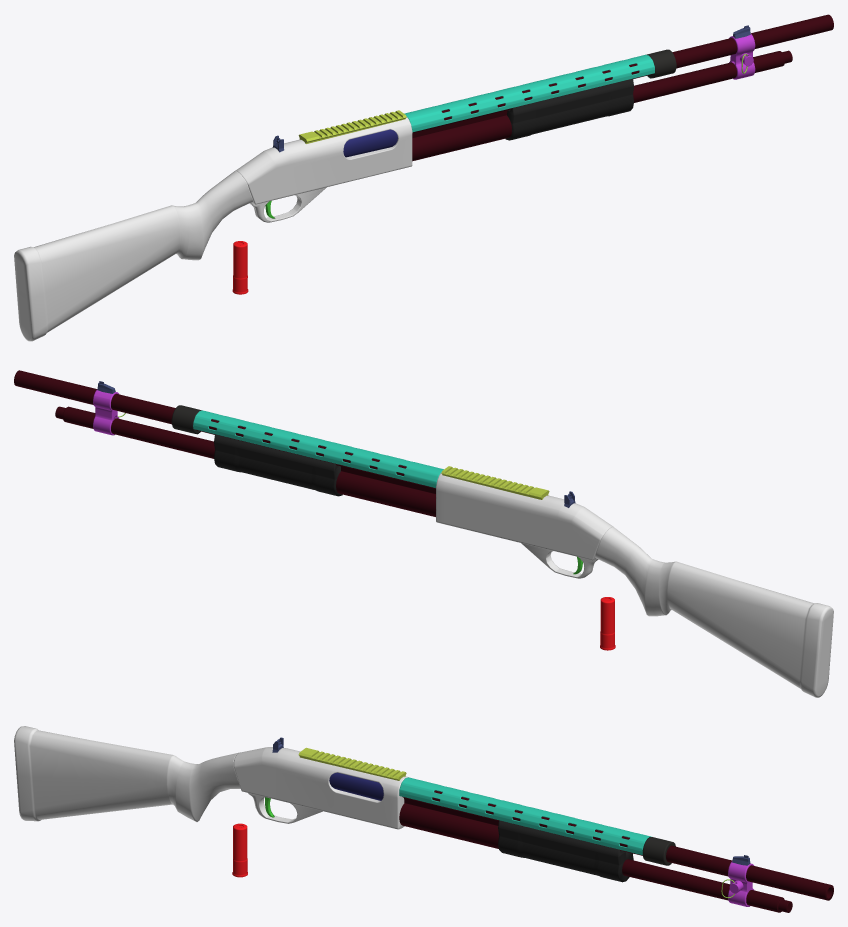
The model's file is uploads_files_903770_Rem870.fbx.
3 renders of one model, top to bottom at view 1: azimuth 30°, elevation 25°; view 2: azimuth 150°, elevation 25°; view 3: azimuth 330°, elevation 25°, orthographic.
Visible parts, largest first — view 1: 870mcs.053, 870mcs.052, 870mcs.050, 870mcs.044, Cylinder.015, 870mcs.045, 870mcs_bolt.011, 870mcs.047, 870mcs_12 gauge round.000; view 2: 870mcs.053, 870mcs.050, 870mcs.052, 870mcs.044, Cylinder.015, 870mcs.045, 870mcs.047, 870mcs_12 gauge round.000; view 3: 870mcs.053, 870mcs.052, 870mcs.050, 870mcs.044, Cylinder.015, 870mcs.045, 870mcs_bolt.011, 870mcs.047, 870mcs_12 gauge round.000, 870mcs.051.
Part boxes in pixels (<box>): 870mcs.053: <box>14,171,252,341</box>; 870mcs.052: <box>412,14,833,161</box>; 870mcs.050: <box>235,117,412,222</box>; 870mcs.044: <box>404,54,654,132</box>; Cylinder.015: <box>505,79,633,140</box>; 870mcs.045: <box>298,110,406,143</box>; 870mcs_bolt.011: <box>343,129,397,157</box>; 870mcs.047: <box>729,33,755,79</box>; 870mcs_12 gauge round.000: <box>232,241,248,294</box>; 870mcs.053: <box>595,526,833,697</box>; 870mcs.050: <box>436,472,612,578</box>; 870mcs.052: <box>14,370,435,516</box>; 870mcs.044: <box>193,410,443,487</box>; Cylinder.015: <box>214,434,342,496</box>; 870mcs.045: <box>441,466,549,499</box>; 870mcs.047: <box>93,389,119,435</box>; 870mcs_12 gauge round.000: <box>600,597,615,650</box>; 870mcs.053: <box>14,726,240,821</box>; 870mcs.052: <box>399,790,833,912</box>; 870mcs.050: <box>233,747,407,829</box>; 870mcs.044: <box>399,777,651,855</box>; Cylinder.015: <box>498,820,633,882</box>; 870mcs.045: <box>298,747,406,780</box>; 870mcs_bolt.011: <box>329,772,383,800</box>; 870mcs.047: <box>728,861,754,906</box>; 870mcs_12 gauge round.000: <box>232,823,247,877</box>; 870mcs.051: <box>642,837,675,865</box>.
Bounding box in the file's own units: 5449 × 924 × 211.
